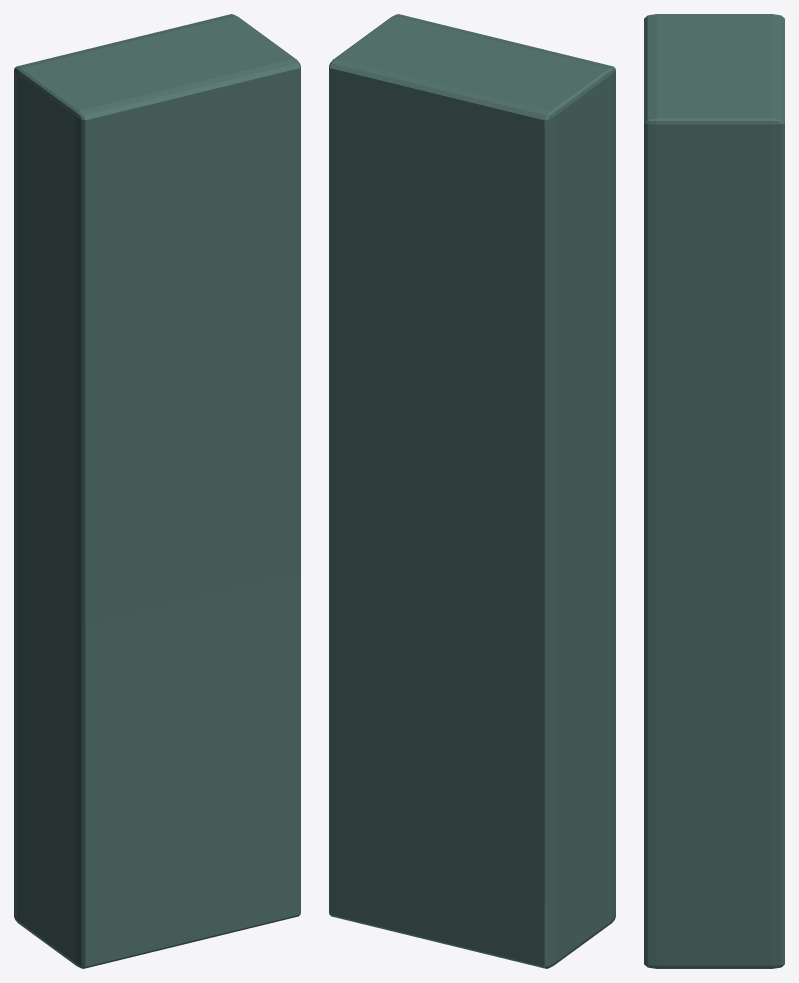
The model's file is Pillar-t1.fbx.
3 renders of one model, left to right at view 1: azimuth 30°, elevation 25°; view 2: azimuth 150°, elevation 25°; view 3: azimuth 270°, elevation 25°, orthographic.
Visible parts, largest first — view 1: Pillar 1; view 2: Pillar 1; view 3: Pillar 1.
Part boxes in pixels (x1,y1,x2,y2): Pillar 1: (14,14,300,968); Pillar 1: (329,14,615,968); Pillar 1: (644,14,784,968).
Size of the model in its own units: 114 by 420 by 63.14.
